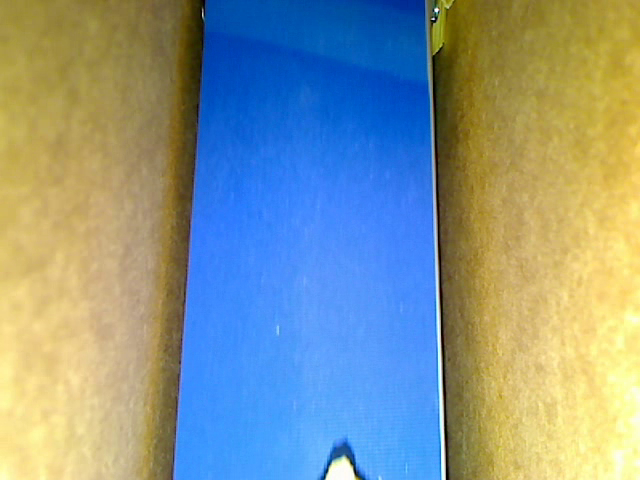penne: (428, 1, 449, 56), (439, 1, 457, 12)
shell: (320, 456, 362, 479)
